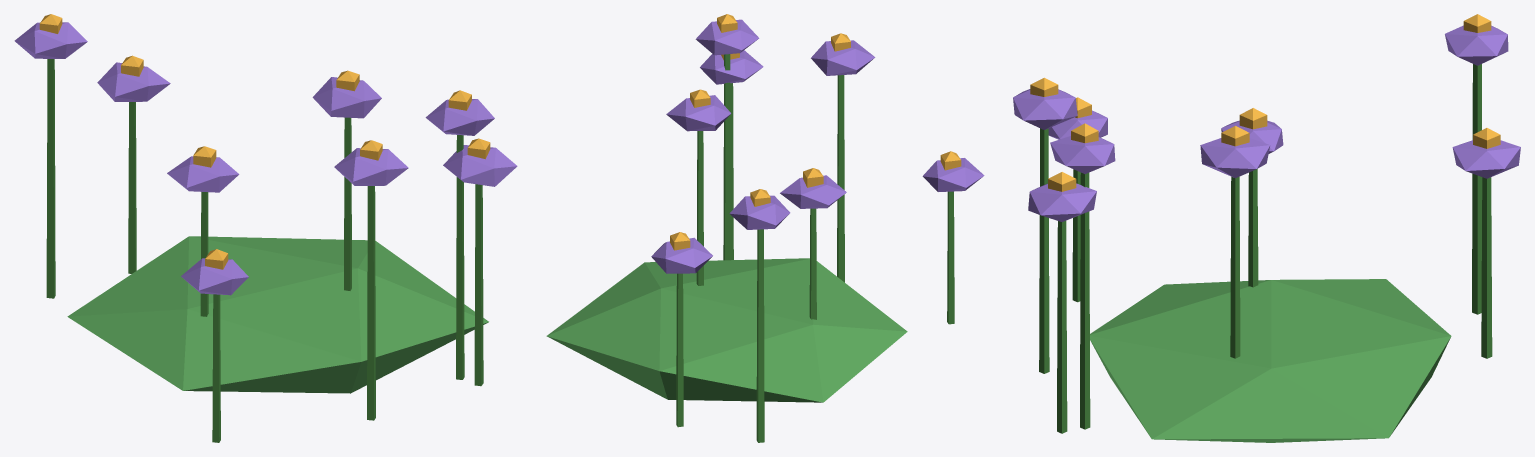
Rendered from flowers-purple.glb.
3 renders of one model, left to right at view 1: azimuth 30°, elevation 25°; view 2: azimuth 150°, elevation 25°; view 3: azimuth 270°, elevation 25°, orthographic. The views are drawn at different scales.
Parts seen in each view (by area): view 1: flowers; view 2: flowers; view 3: flowers.
Boxes of the visible parts, bbox=[...] form: flowers: bbox=[14, 14, 517, 442]; flowers: bbox=[546, 14, 984, 442]; flowers: bbox=[1013, 14, 1520, 442].
Size of the model in its own units: 0.7656 by 0.6631 by 0.9502.
